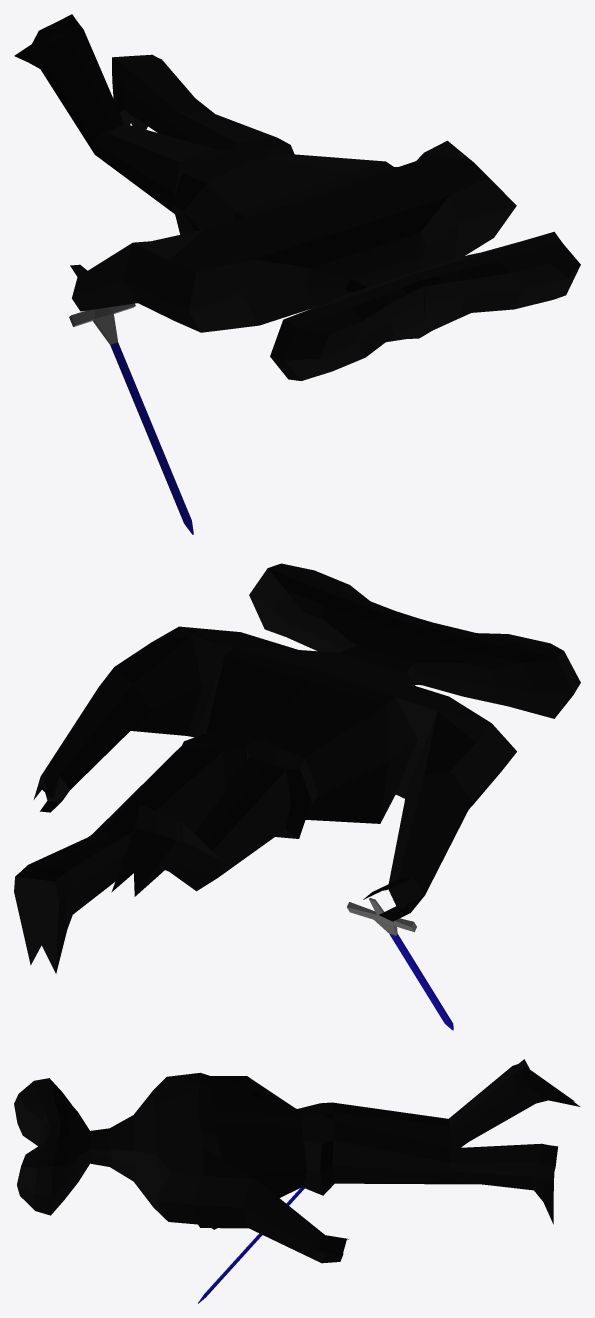
File: SwordsMan2w.obj
The picture shows the model from 3 angles, top to bottom: view 1: azimuth 30°, elevation 25°; view 2: azimuth 150°, elevation 25°; view 3: azimuth 270°, elevation 25°; orthographic projection. The views are drawn at different scales.
Visible parts, largest first — view 1: Cube, Cube.001_Sword; view 2: Cube, Cube.001_Sword; view 3: Cube, Cube.001_Sword.
Boxes of the visible parts, <box> form: Cube: <box>14,14,580,380</box>; Cube.001_Sword: <box>69,303,193,534</box>; Cube: <box>14,563,580,973</box>; Cube.001_Sword: <box>347,898,453,1030</box>; Cube: <box>14,1059,580,1263</box>; Cube.001_Sword: <box>198,1187,304,1303</box>.
Bounding box in the file's own units: 0.9214 × 0.8407 × 1.59.
